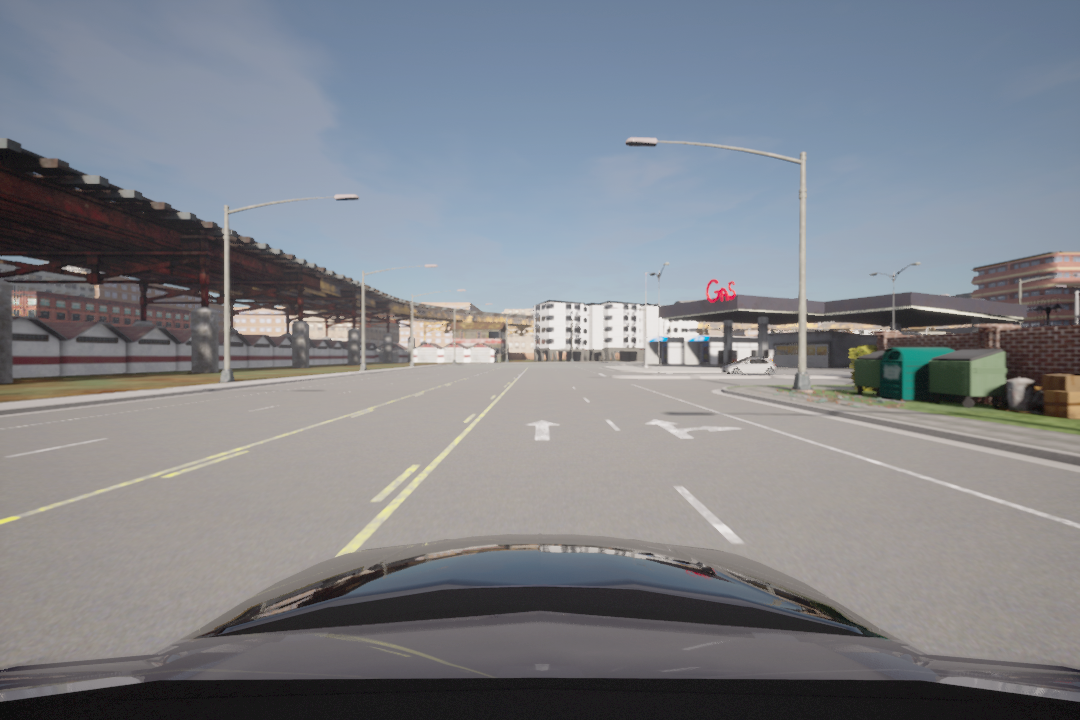RoadSign_forward: (526, 417, 563, 446)
RoadSign_forward_right: (641, 414, 746, 442)
